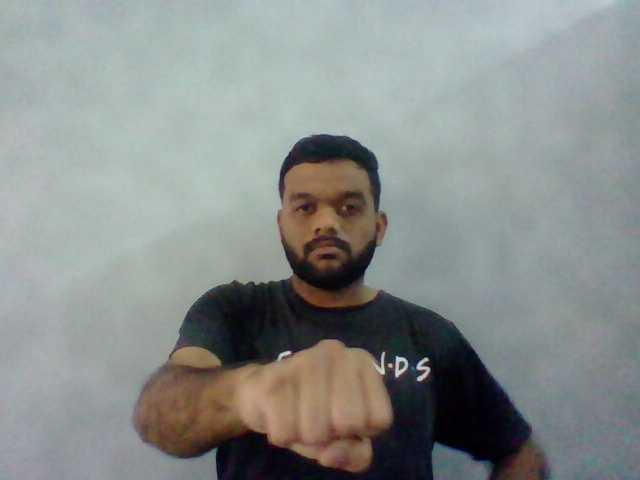Yes: (250, 334, 395, 476)
